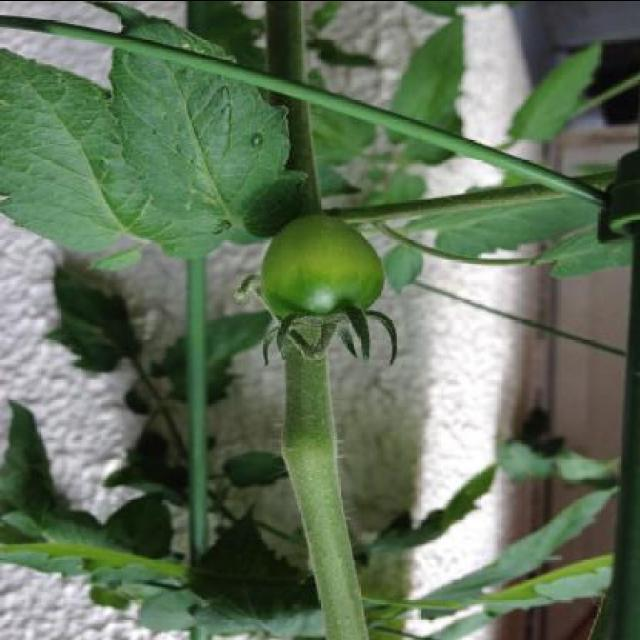Tomato: (236, 212, 392, 370)
